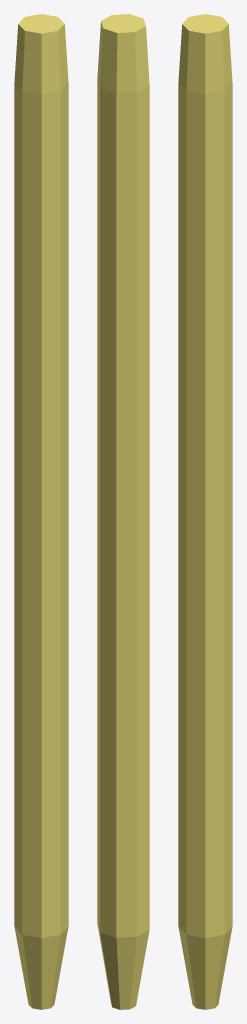
The model's file is hazard_stake_yellow_03.glb.
The picture shows the model from 3 angles, left to right: view 1: azimuth 90°, elevation 25°; view 2: azimuth 210°, elevation 25°; view 3: azimuth 270°, elevation 25°; orthographic projection.
Visible parts, largest first — view 1: Hazard_stake_yellow_03; view 2: Hazard_stake_yellow_03; view 3: Hazard_stake_yellow_03.
Boxes of the visible parts, left/top/right/bottom form: Hazard_stake_yellow_03: left=14, top=14, right=68, bottom=1009; Hazard_stake_yellow_03: left=97, top=14, right=149, bottom=1009; Hazard_stake_yellow_03: left=178, top=14, right=232, bottom=1009.
Bounding box in the file's own units: 0.05 × 1 × 0.05.
